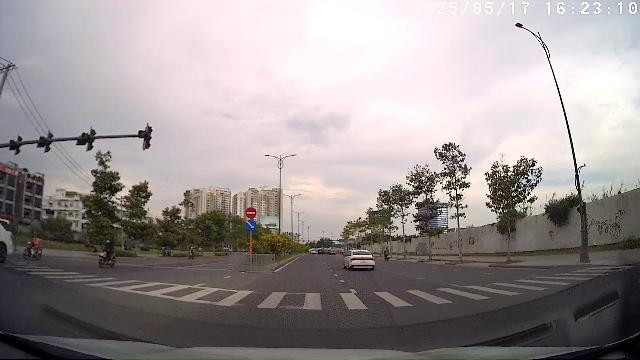102-cam-di-nguoc-chieu: (246, 208, 256, 218)
302a-huong-phai-di-vong-chuong-ngai-vat-1: (246, 220, 256, 230)
